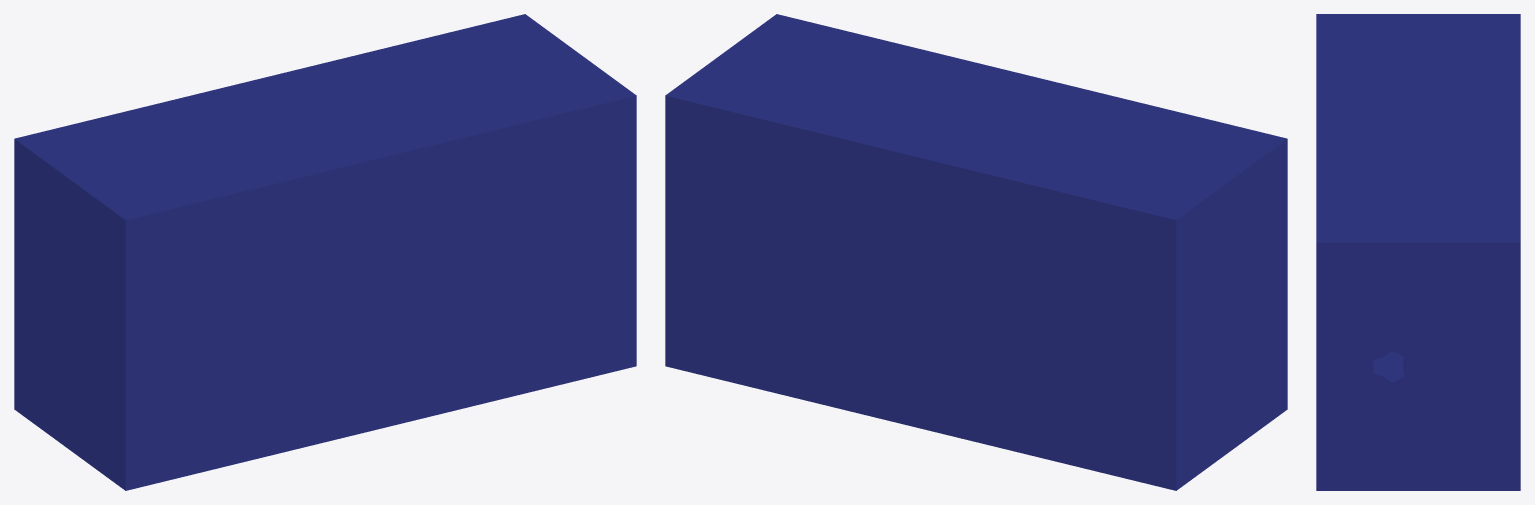
File: 01_Colorful_Background.glb
The picture shows the model from 3 angles, left to right: view 1: azimuth 30°, elevation 25°; view 2: azimuth 150°, elevation 25°; view 3: azimuth 270°, elevation 25°; orthographic projection. The views are drawn at different scales.
Visible parts, largest first — view 1: 01_Background_Simple; view 2: 01_Background_Simple; view 3: 01_Background_Simple.
Part boxes in pixels (x1,y1,x2,y2): 01_Background_Simple: [14, 14, 636, 490]; 01_Background_Simple: [665, 14, 1287, 490]; 01_Background_Simple: [1316, 14, 1520, 490].
Bounding box in the file's own units: 93 × 47.06 × 35.15.
